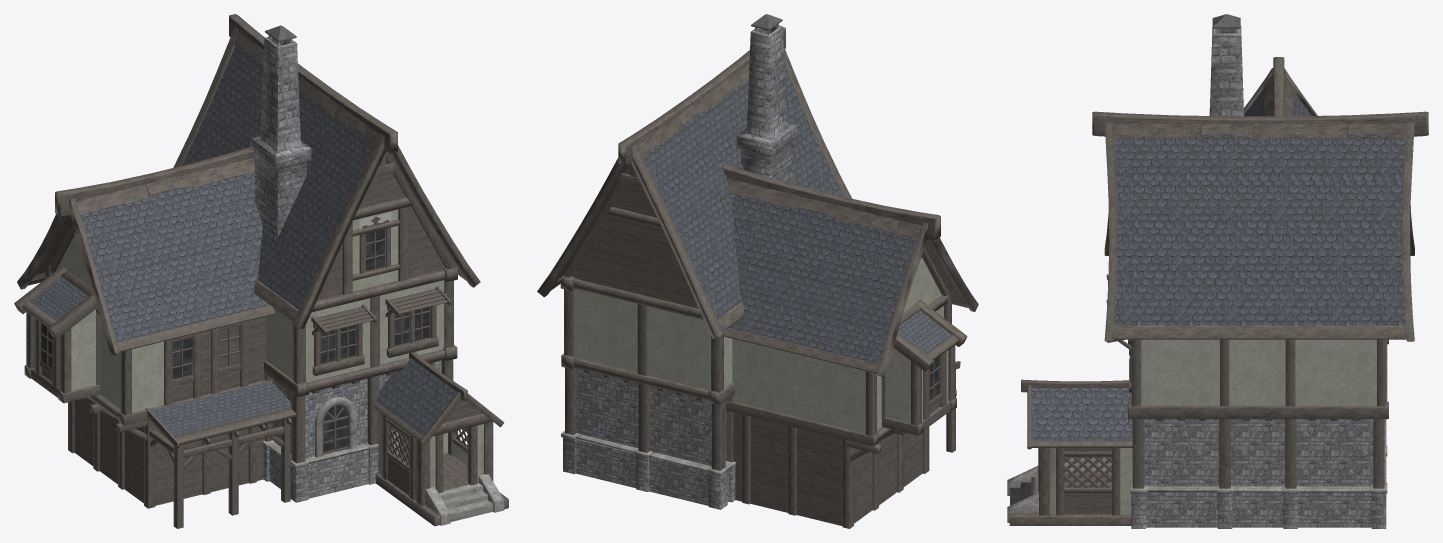
Rendered from medieval-rx-y90.glb.
The picture shows the model from 3 angles, left to right: view 1: azimuth 30°, elevation 25°; view 2: azimuth 150°, elevation 25°; view 3: azimuth 270°, elevation 25°; orthographic projection. The views are drawn at different scales.
Parts seen in each view (by area): view 1: Cube.154, Cube.112, Cube.118, Cube, Cube.271, Cube.182, Cube.110, Cube.222, Cube.225, Cube.224, Cube.215, Cube.184 (+51 smaller); view 2: Cube, Cube.015, Cube.118, Cube.112, Cube.271, Cube.110, Cube.014, Cube.224, Cube.105, Cube.184, pasted__Cube.219, Cube.089 (+25 smaller); view 3: Cube.013, Cube, Cube.018, Cube.219, Cube.113, Cube.111, Cube.076, Cube.105, Cube.271, Cube.215, Cube.195, Cube.002 (+20 smaller).
Boxes of the visible parts, <box> form: Cube.154: <box>80,173,269,342</box>; Cube.112: <box>181,46,373,309</box>; Cube.118: <box>56,235,266,505</box>; Cube: <box>266,161,445,498</box>; Cube.271: <box>250,37,311,237</box>; Cube.182: <box>151,381,291,436</box>; Cube.110: <box>173,26,385,329</box>; Cube.222: <box>375,357,457,436</box>; Cube.225: <box>76,158,254,215</box>; Cube.224: <box>55,147,254,216</box>; Cube.215: <box>377,400,483,500</box>; Cube.184: <box>33,309,96,390</box>; Cube: <box>571,184,732,505</box>; Cube.015: <box>729,195,917,364</box>; Cube.118: <box>732,258,943,525</box>; Cube.112: <box>643,67,843,319</box>; Cube.271: <box>736,25,796,183</box>; Cube.110: <box>631,46,851,338</box>; Cube.014: <box>727,178,921,238</box>; Cube.224: <box>722,164,940,239</box>; Cube.105: <box>618,27,785,164</box>; Cube.184: <box>886,348,948,423</box>; pasted__Cube.219: <box>637,64,749,158</box>; Cube.089: <box>726,401,878,446</box>; Cube.013: <box>1114,131,1405,325</box>; Cube: <box>1141,339,1376,527</box>; Cube.018: <box>1031,388,1132,441</box>; Cube.219: <box>1113,123,1406,139</box>; Cube.113: <box>1113,326,1406,339</box>; Cube.111: <box>1104,122,1414,341</box>; Cube.076: <box>1128,401,1388,418</box>; Cube.105: <box>1092,111,1428,136</box>; Cube.271: <box>1209,25,1243,116</box>; Cube.215: <box>1050,448,1132,514</box>; Cube.195: <box>1009,513,1131,525</box>; Cube.002: <box>1147,419,1385,492</box>.
Size of the model in its own units: 10.77 by 12.6 by 10.7.
1 material, 1 textured.
